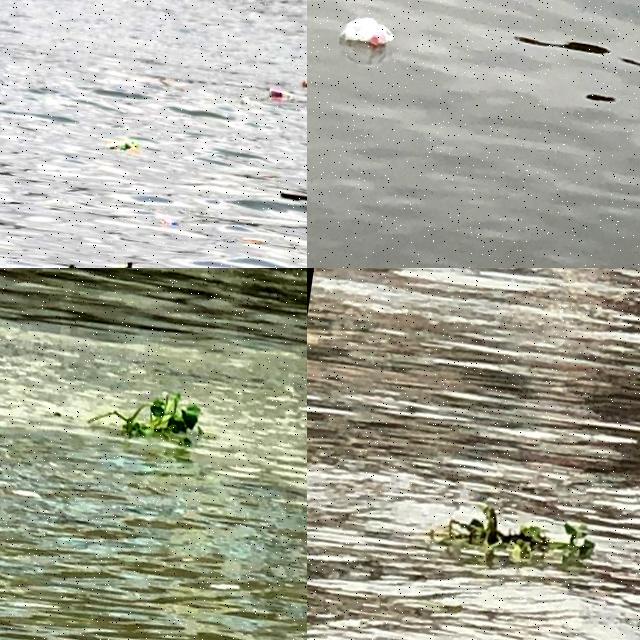plastic bag: (339, 17, 394, 47)
water-hyacinth: (424, 502, 596, 560), (96, 373, 222, 451)
